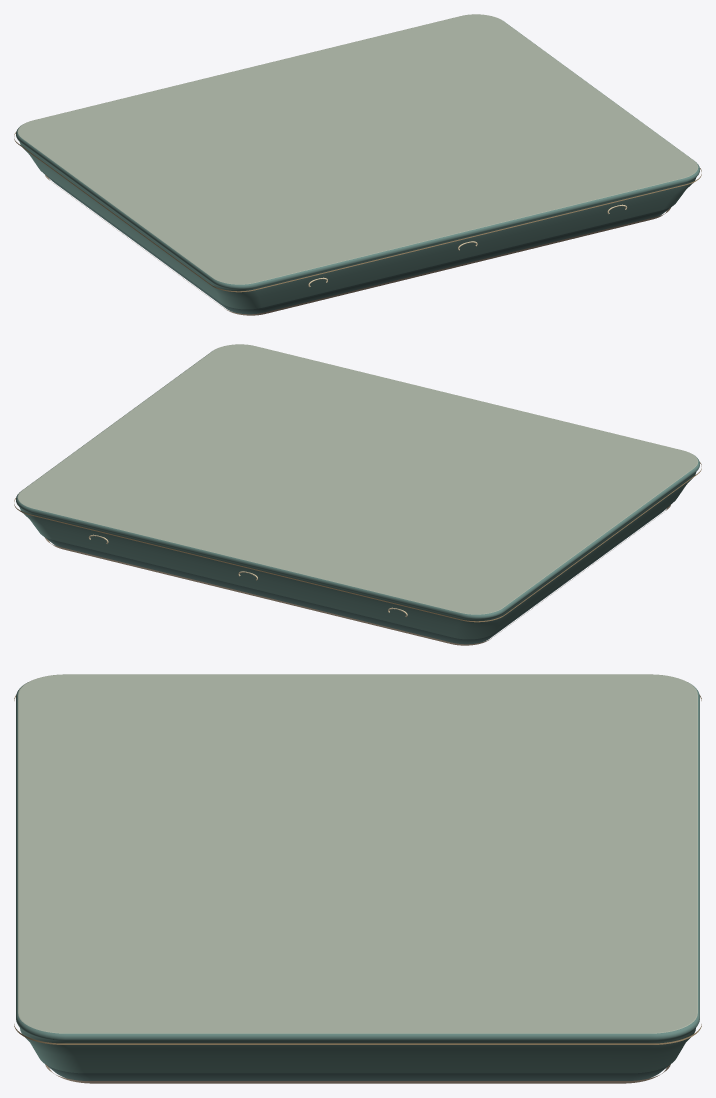
Rendered from chapter_terrace_1_2.glb.
The picture shows the model from 3 angles, top to bottom: view 1: azimuth 30°, elevation 25°; view 2: azimuth 150°, elevation 25°; view 3: azimuth 270°, elevation 25°; orthographic projection. The views are drawn at different scales.
Visible parts, largest first — view 1: Carved celadon terrace, Worn champagne bronze, Rounded limestone footing; view 2: Carved celadon terrace, Worn champagne bronze, Rounded limestone footing; view 3: Carved celadon terrace, Rounded limestone footing, Worn champagne bronze.
Part boxes in pixels (x1=…): Carved celadon terrace: x1=16, y1=14, x2=699, y2=314; Worn champagne bronze: x1=14, y1=132, x2=701, y2=292; Rounded limestone footing: x1=45, y1=175, x2=670, y2=315; Carved celadon terrace: x1=16, y1=344, x2=699, y2=644; Worn champagne bronze: x1=14, y1=462, x2=701, y2=622; Rounded limestone footing: x1=45, y1=505, x2=670, y2=645; Carved celadon terrace: x1=16, y1=674, x2=699, y2=1080; Rounded limestone footing: x1=45, y1=1064, x2=670, y2=1083; Worn champagne bronze: x1=14, y1=695, x2=701, y2=1044.
Bounding box in the file's own units: 20.18 × 1.94 × 16.14.
